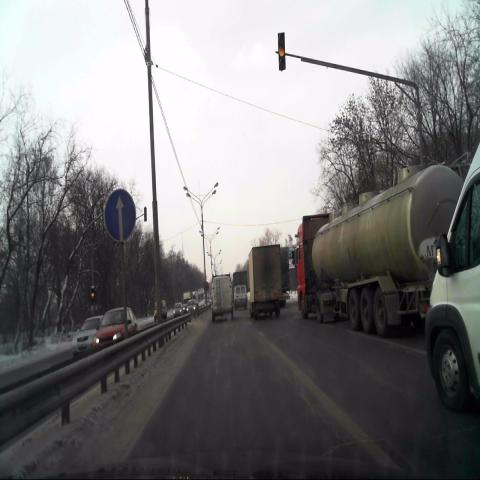4_1_1: (104, 189, 136, 242)
